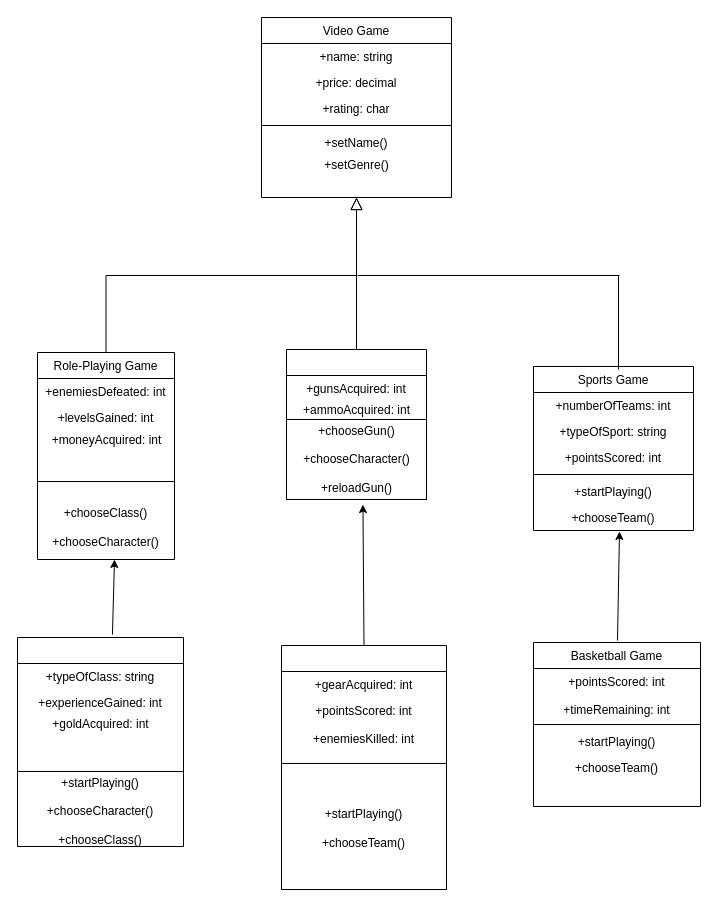
The diagram is 718 pixels wide and 907 high, and some of its shapes have lost their labels. The shapes that lost their labels are listed below. From the top down, each one's box as (x1, y1, x2, y2) in pixels, then its label:
(286, 348, 426, 500): Shooter
(16, 636, 184, 846): MMORPG
(280, 644, 446, 890): First-Person Shooter
